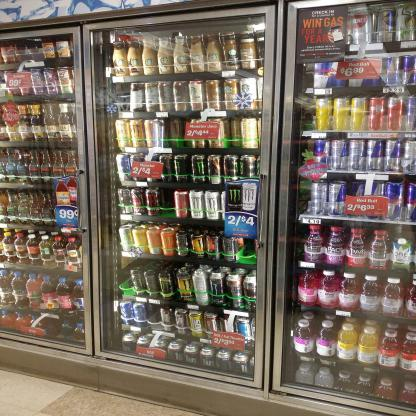Void: (118, 261, 131, 294), (160, 187, 172, 214), (149, 308, 162, 328)
